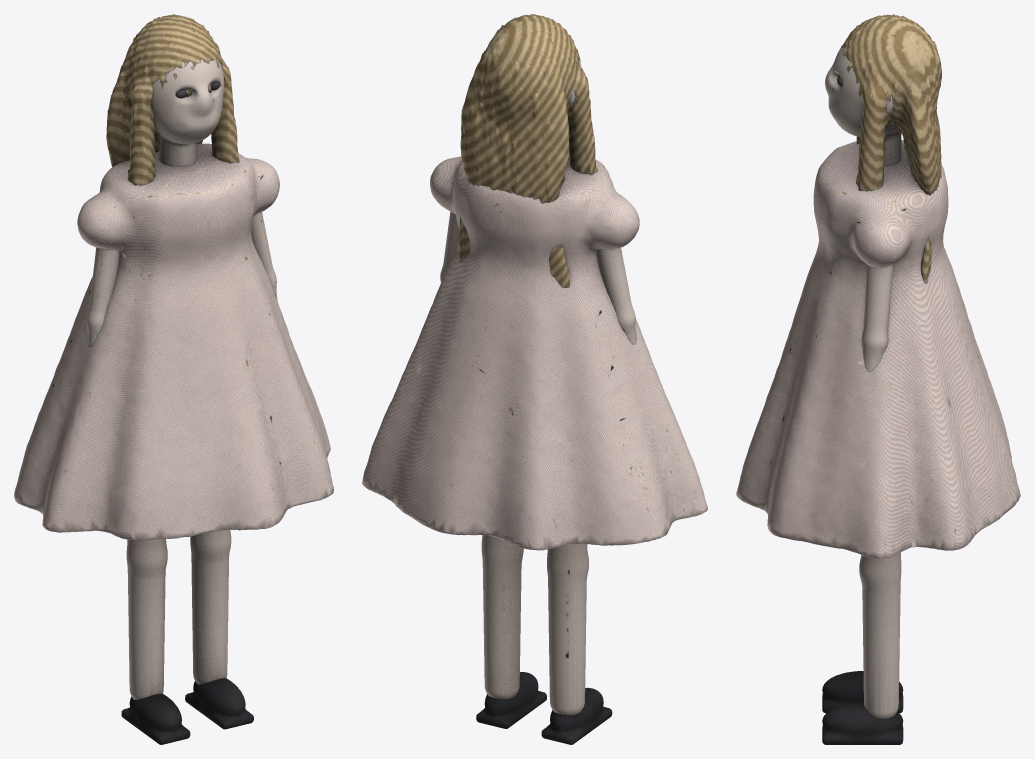
Rendered from mannequin_girl.glb.
3 renders of one model, left to right at view 1: azimuth 30°, elevation 25°; view 2: azimuth 150°, elevation 25°; view 3: azimuth 270°, elevation 25°, orthographic. The views are drawn at different scales.
Parts seen in each view (by area): view 1: Girl_Dress, Girl_Skin, Girl_Hair, Girl_Shoes; view 2: Girl_Dress, Girl_Hair, Girl_Skin, Girl_Shoes; view 3: Girl_Dress, Girl_Hair, Girl_Skin, Girl_Shoes.
Part boxes in pixels (left/top/right/bottom): Girl_Dress: left=14, top=143, right=333, bottom=540; Girl_Skin: left=86, top=58, right=277, bottom=700; Girl_Hair: left=106, top=14, right=239, bottom=185; Girl_Shoes: left=121, top=678, right=253, bottom=744; Girl_Dress: left=362, top=155, right=707, bottom=550; Girl_Hair: left=458, top=14, right=597, bottom=287; Girl_Skin: left=440, top=58, right=636, bottom=715; Girl_Shoes: left=476, top=672, right=612, bottom=744; Girl_Dress: left=736, top=140, right=1020, bottom=558; Girl_Hair: left=837, top=14, right=941, bottom=283; Girl_Skin: left=825, top=45, right=901, bottom=719; Girl_Shoes: left=822, top=671, right=903, bottom=744.
Bounding box in the file's own units: 0.5644 × 1.25 × 0.4572.
Materials: 1 (1 with a texture image).
